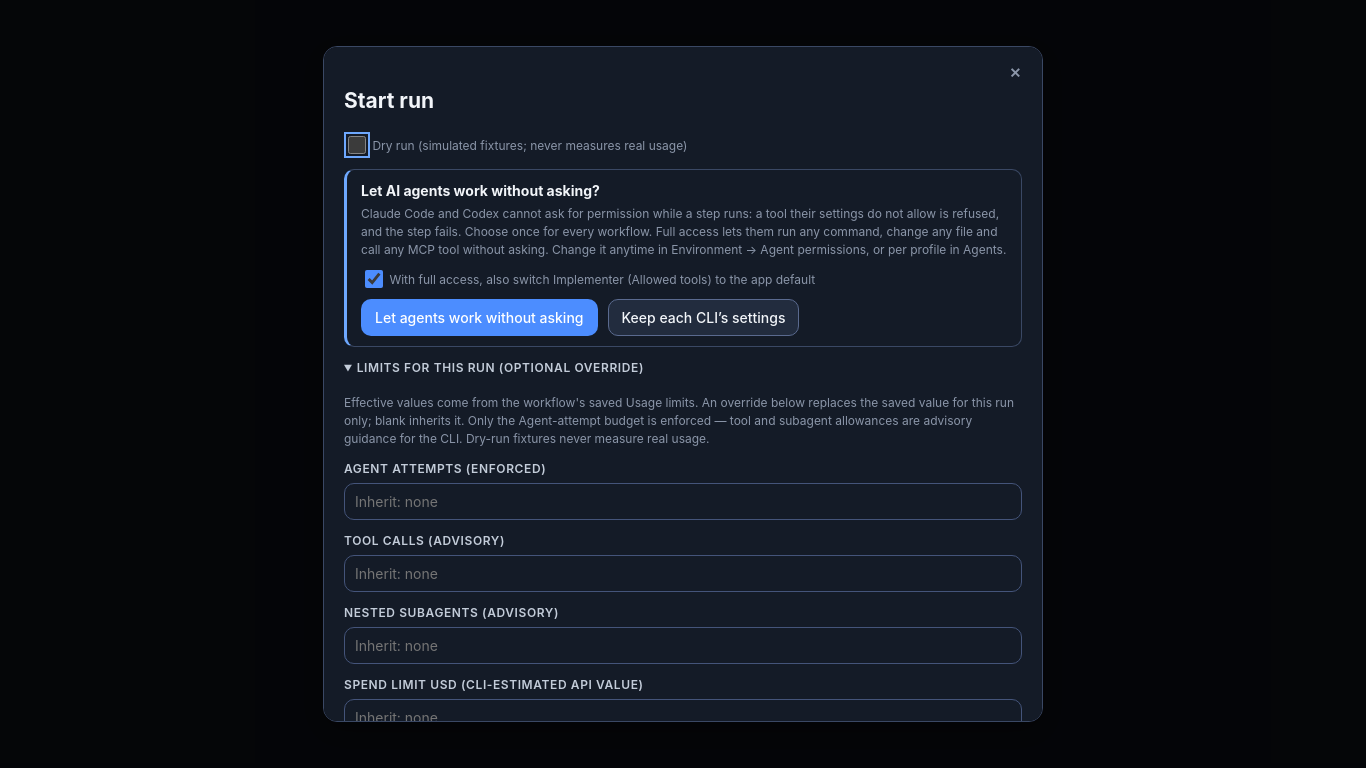
keeps the question and its error when a profile cannot be switched
The width and height of the screenshot is (1366, 768).
Click the button "Let agents work without asking": coordinates (479, 318) [361,299,598,336]
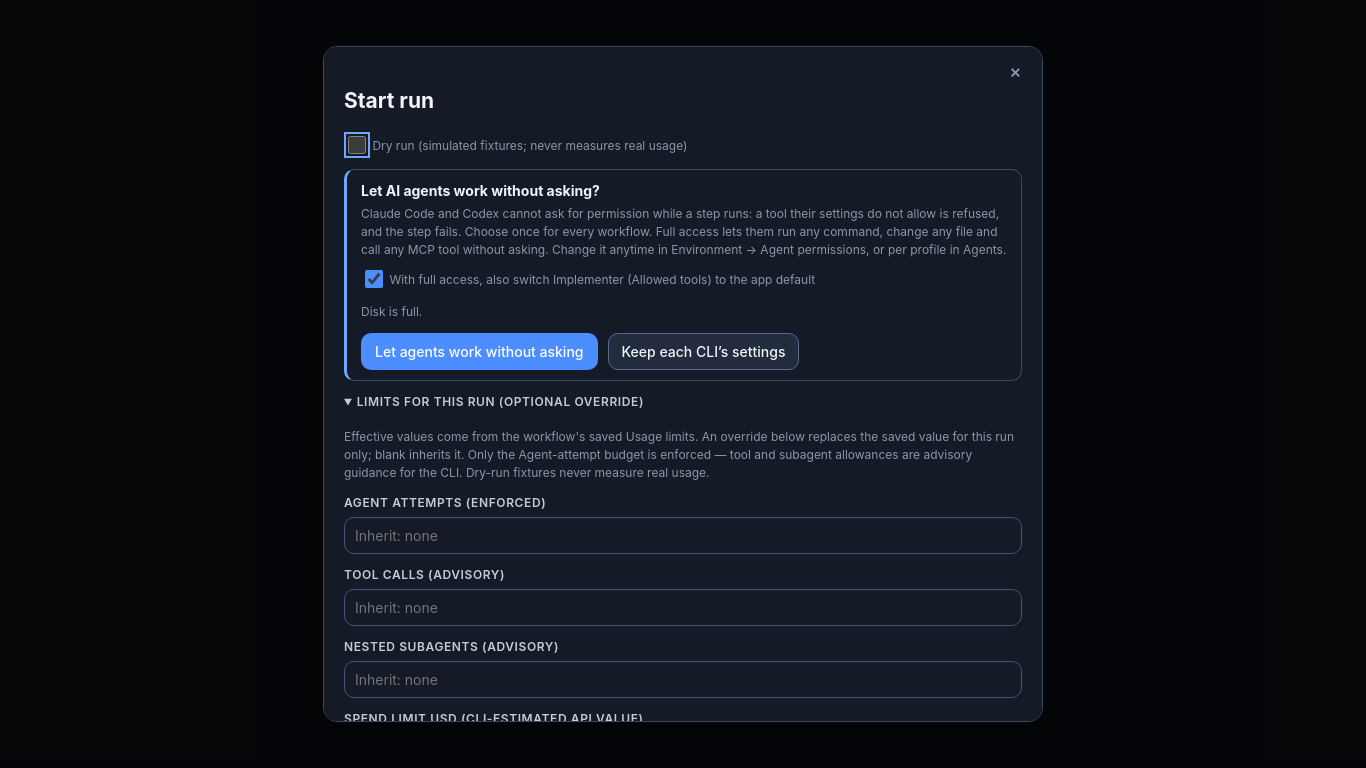
Check: the text "Let AI agents work without asking?" is shown, box [361,182,600,199]
Check: the message reads "Disk is full.", box [361,304,422,319]
